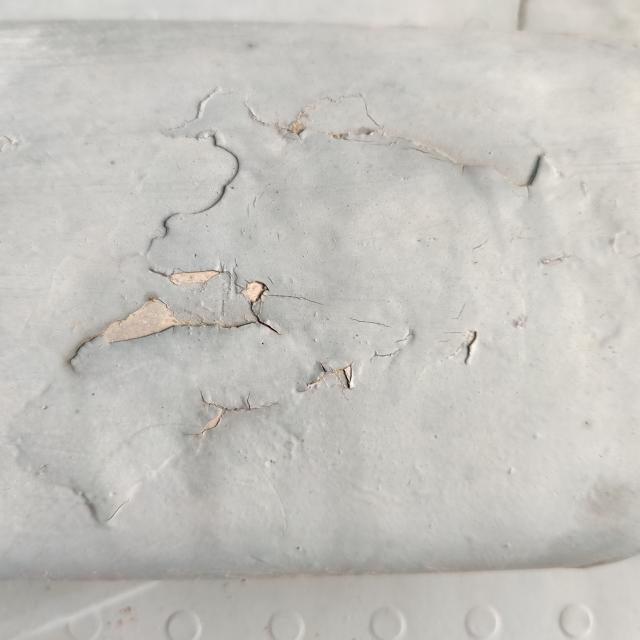Paint-off: (65, 269, 284, 363)
